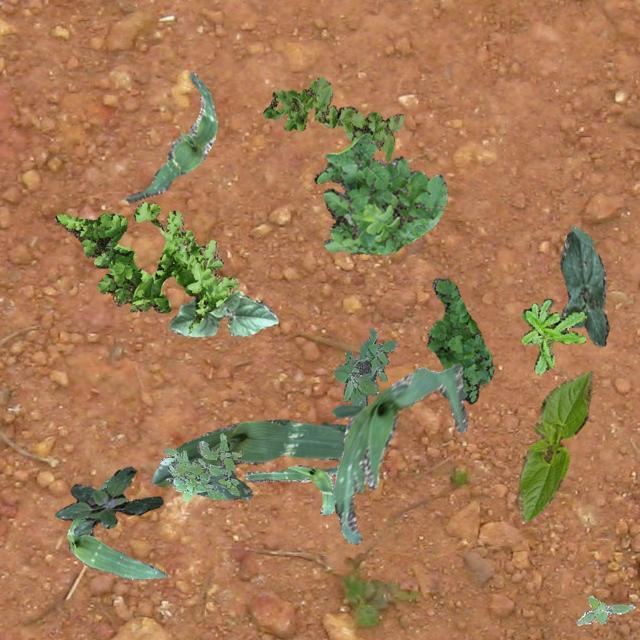crop: (330, 362, 466, 542), (150, 418, 346, 499), (122, 72, 216, 202), (516, 370, 592, 520), (66, 468, 166, 578), (558, 224, 608, 346), (168, 288, 278, 336), (243, 464, 337, 514)
weed: (54, 202, 238, 330), (314, 132, 446, 254), (262, 76, 402, 160), (427, 278, 492, 402), (55, 466, 162, 534), (158, 432, 242, 500), (332, 328, 397, 408), (520, 297, 586, 373), (576, 594, 634, 624)
